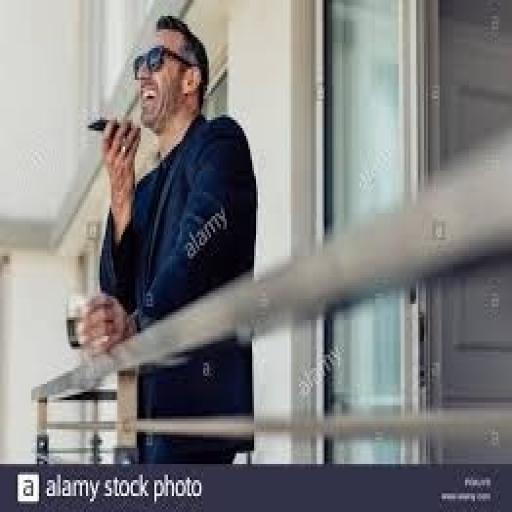calling: (74, 13, 260, 464)
